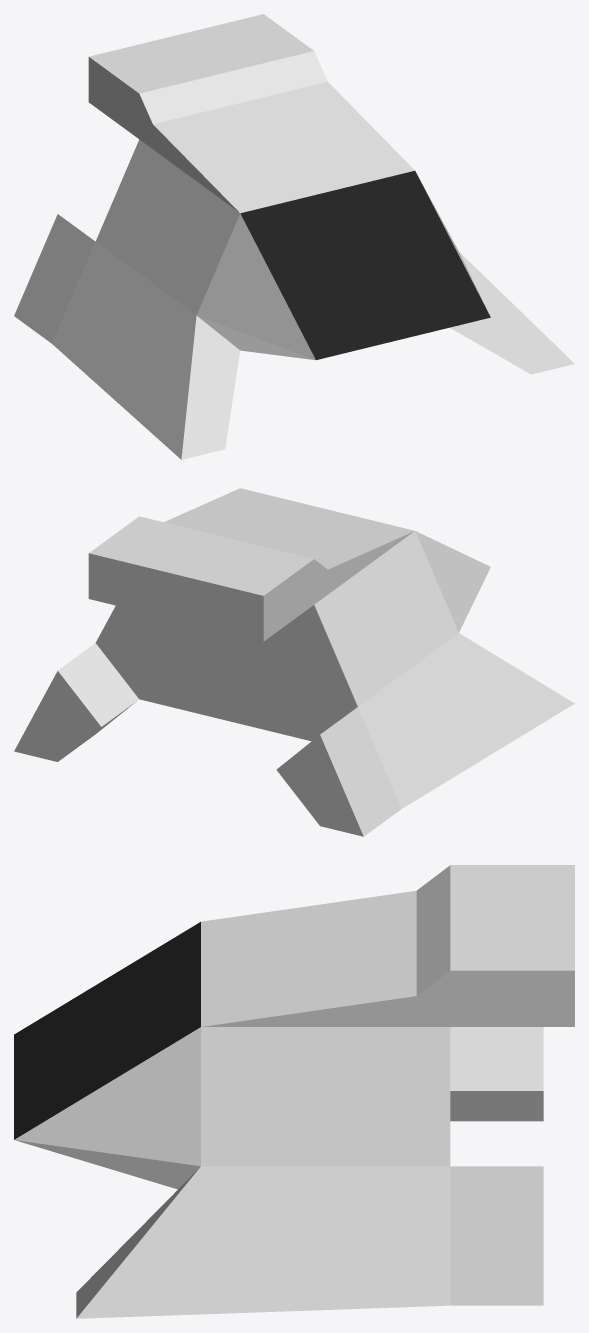
Rendered from Tanks.fbx_Menacer.fbx.
The picture shows the model from 3 angles, top to bottom: view 1: azimuth 30°, elevation 25°; view 2: azimuth 150°, elevation 25°; view 3: azimuth 270°, elevation 25°; orthographic projection. The views are drawn at different scales.
Visible parts, largest first — view 1: Menacer; view 2: Menacer; view 3: Menacer.
Part boxes in pixels (x1,y1,x2,y2): Menacer: (14, 14, 574, 459); Menacer: (14, 488, 574, 836); Menacer: (14, 865, 574, 1318).
Bounding box in the file's own units: 900 × 500 × 900.
